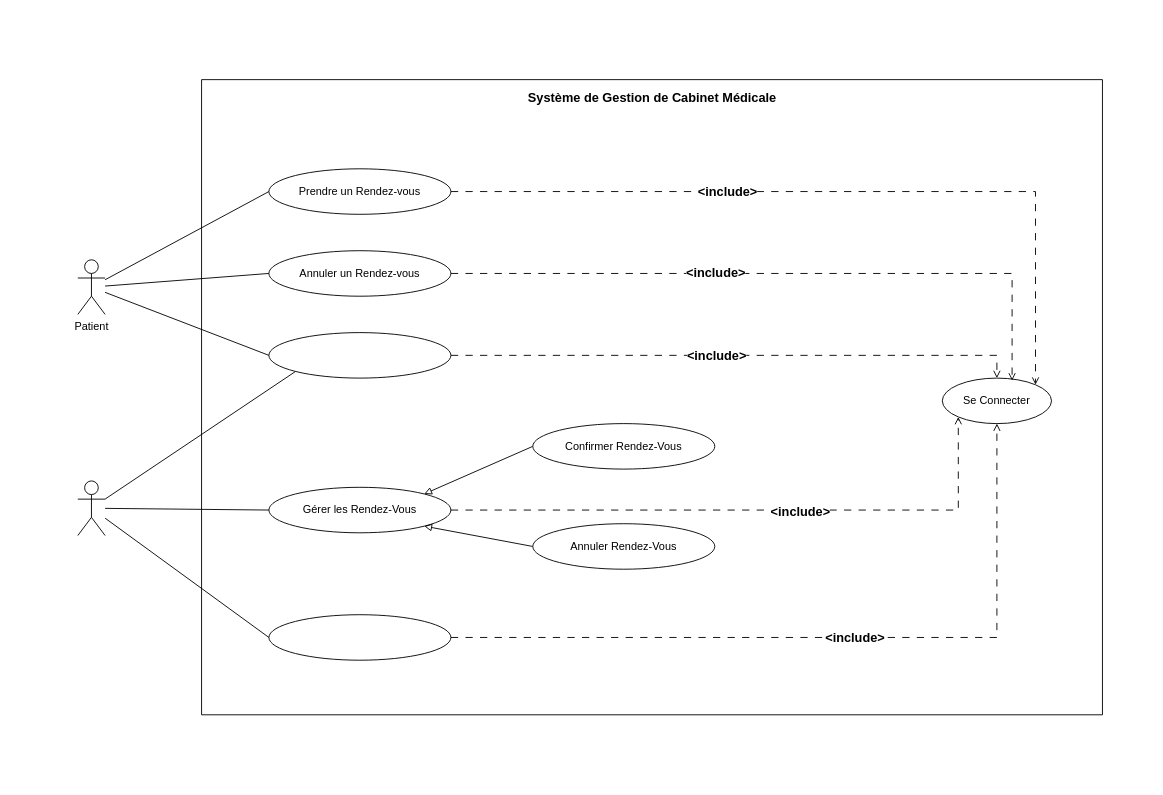
The diagram is 1163 pixels wide and 795 high, and some of its shapes have lost their labels. Each missing label, with the box of its shape:
Consulter l'Historique des Consultations: (268, 332, 451, 378)
Consulter les Statistiques: (268, 614, 451, 660)
Médecin: (77, 480, 105, 536)
